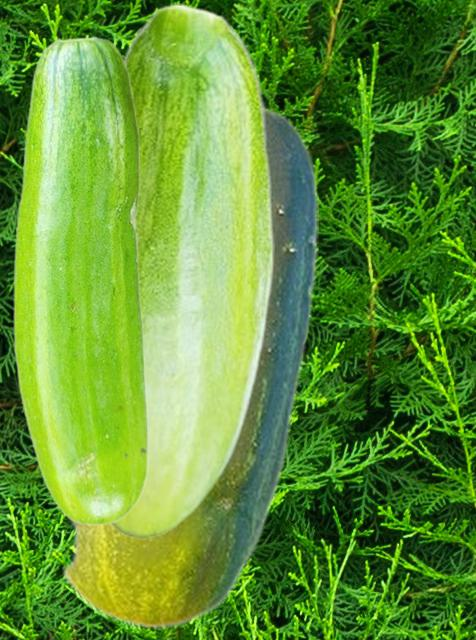cucumber: (49, 102, 317, 629), (110, 3, 273, 538), (13, 35, 148, 525)
